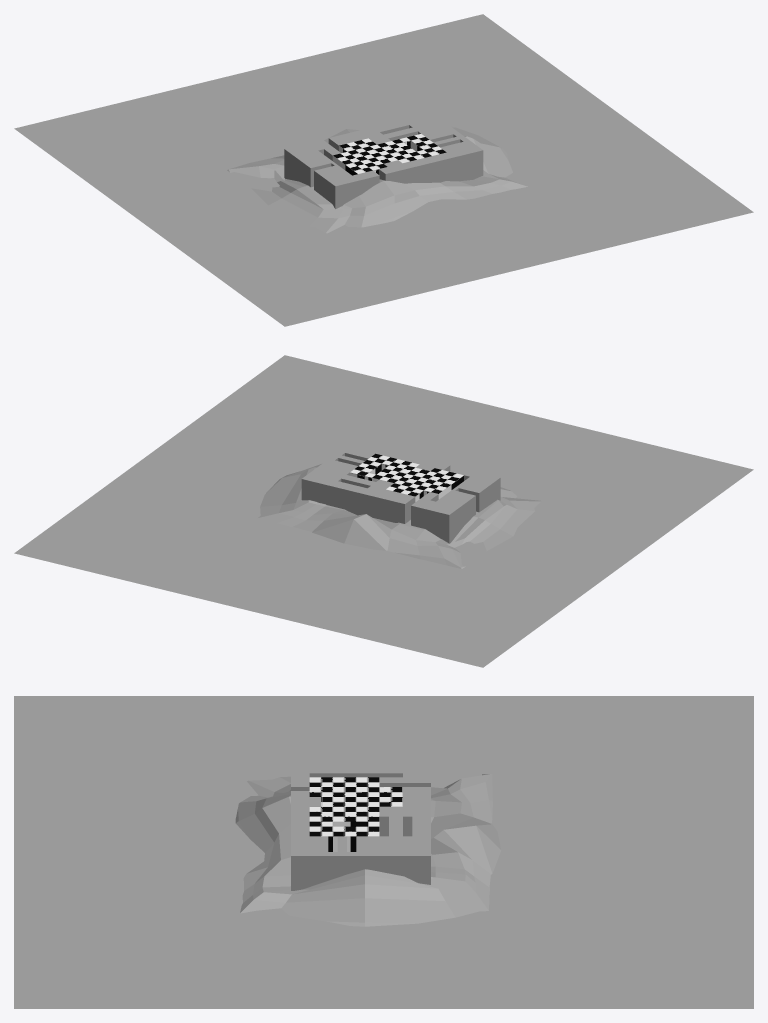
File: Dressed_N3_2.fbx
The picture shows the model from 3 angles, top to bottom: view 1: azimuth 30°, elevation 25°; view 2: azimuth 150°, elevation 25°; view 3: azimuth 270°, elevation 25°; orthographic projection. The views are drawn at different scales.
Visible parts, largest first — view 1: Fondo, Colinas, Piso, Ajedrez1; view 2: Fondo, Colinas, Piso, Ajedrez1; view 3: Fondo, Colinas, Piso, Ajedrez1.
Boxes of the visible parts, x1,y1,x2,y2 form: Fondo: [14, 14, 753, 326]; Colinas: [227, 126, 527, 233]; Piso: [284, 113, 483, 209]; Ajedrez1: [332, 134, 446, 175]; Fondo: [14, 355, 753, 667]; Colinas: [258, 464, 540, 568]; Piso: [301, 441, 500, 543]; Ajedrez1: [350, 453, 464, 501]; Fondo: [14, 696, 753, 1008]; Colinas: [235, 774, 501, 926]; Piso: [291, 757, 430, 890]; Ajedrez1: [309, 777, 402, 851].
Size of the model in its own units: 159 by 20.99 by 159.
